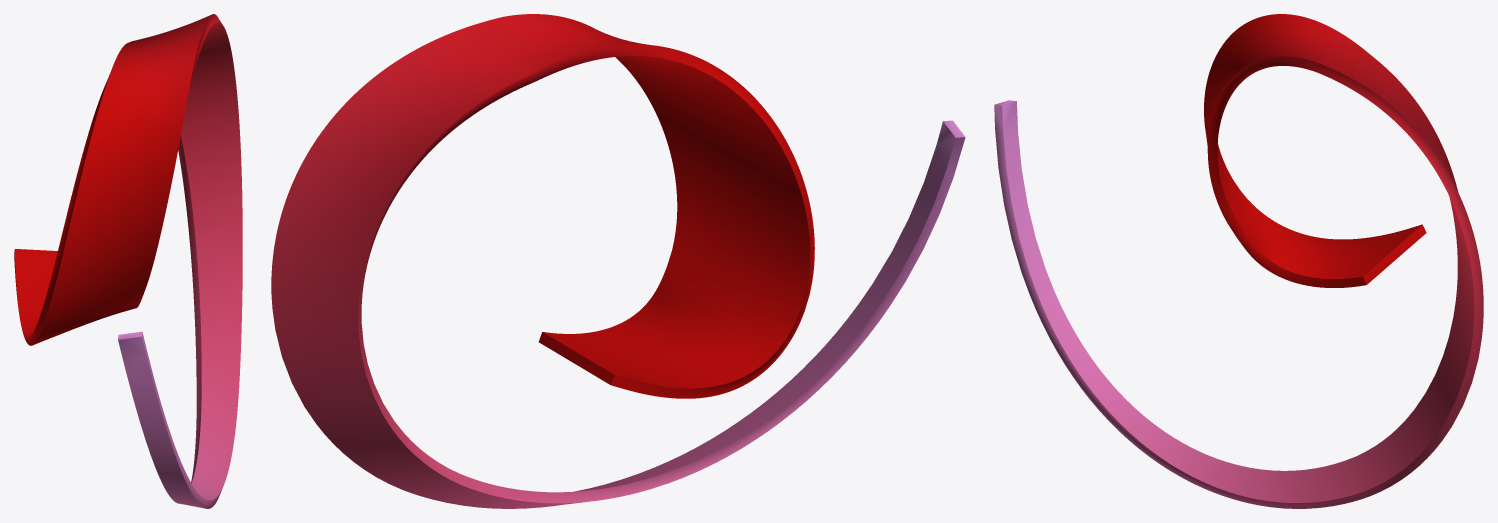
Rendered from cochlea_ribbon.fbx.
3 renders of one model, left to right at view 1: azimuth 30°, elevation 25°; view 2: azimuth 150°, elevation 25°; view 3: azimuth 270°, elevation 25°, orthographic. The views are drawn at different scales.
Visible parts, largest first — view 1: ribbon3; view 2: ribbon3; view 3: ribbon3.
Boxes of the visible parts, x1,y1,x2,y2 form: ribbon3: (14,14,242,508); ribbon3: (271,14,965,508); ribbon3: (994,14,1483,508).
Size of the model in its own units: 52.51 by 61.16 by 61.46.
